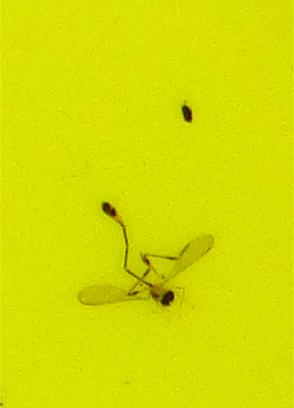Nematocera: (100, 196, 176, 308)
